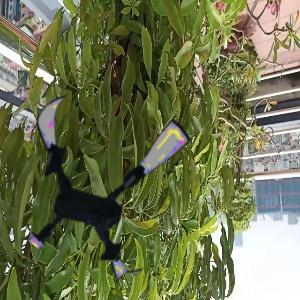drone: (9, 86, 198, 275)
